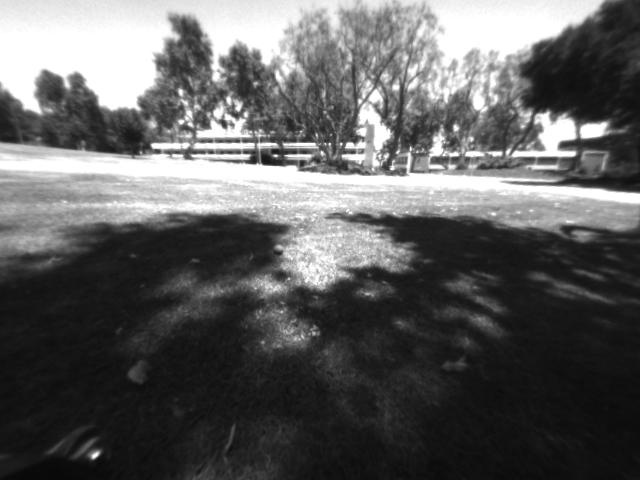dogtoy: (269, 240, 290, 258)
